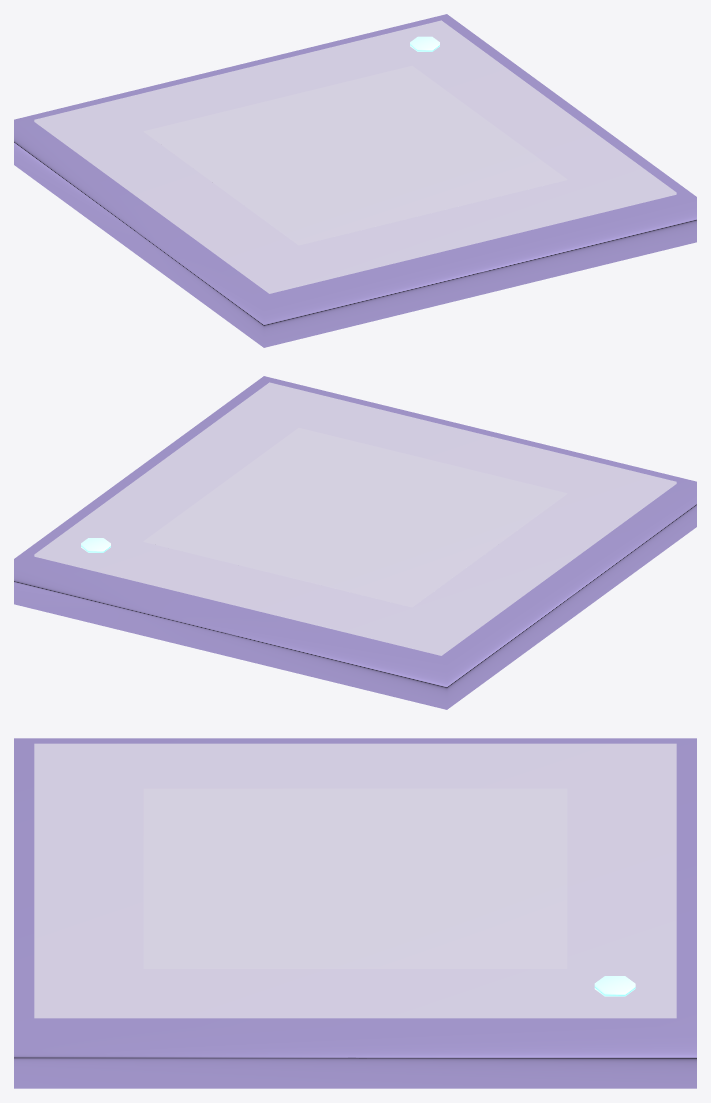
Rendered from floor_lab.glb.
3 views of the same model, one above another, from view 1: azimuth 30°, elevation 25°; view 2: azimuth 150°, elevation 25°; view 3: azimuth 270°, elevation 25° (orthographic). The views are drawn at different scales.
Parts seen in each view (by area): view 1: Tile.001; view 2: Tile.001; view 3: Tile.001.
Boxes of the visible parts, bbox=[...] form: Tile.001: bbox=[14, 14, 696, 347]; Tile.001: bbox=[14, 376, 696, 709]; Tile.001: bbox=[14, 738, 696, 1088].
Size of the model in its own units: 1 by 0.114 by 1.
